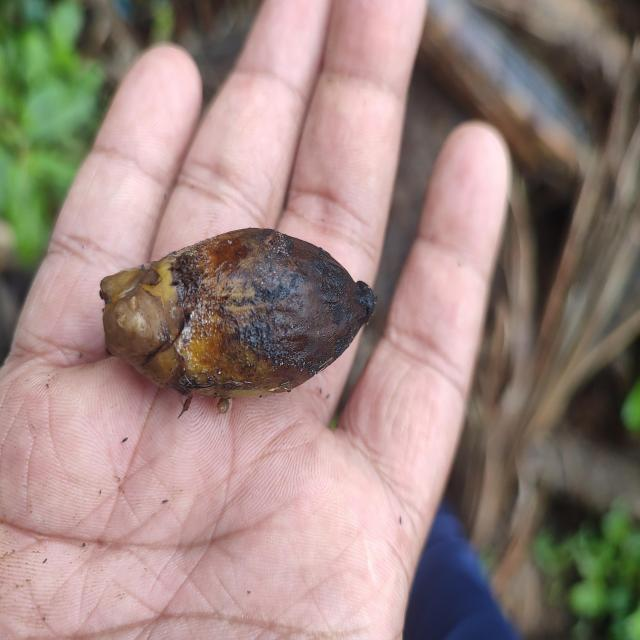damaged: (98, 228, 377, 406)
